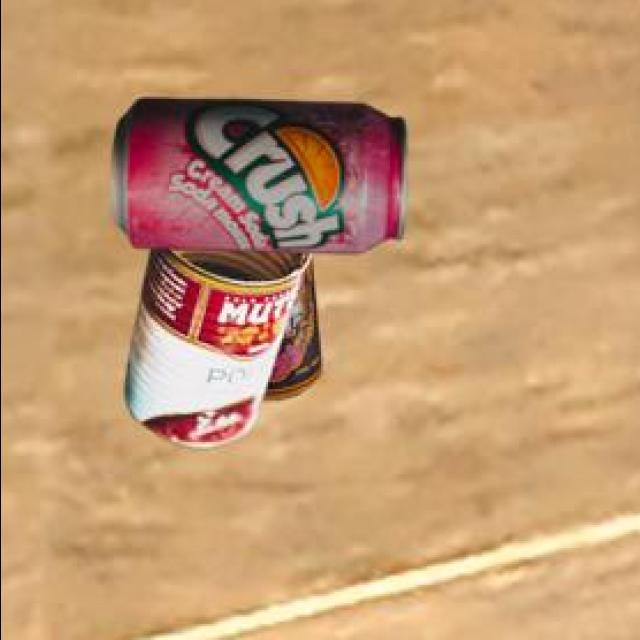logam: (114, 96, 409, 250), (128, 245, 314, 445), (264, 252, 323, 397)
